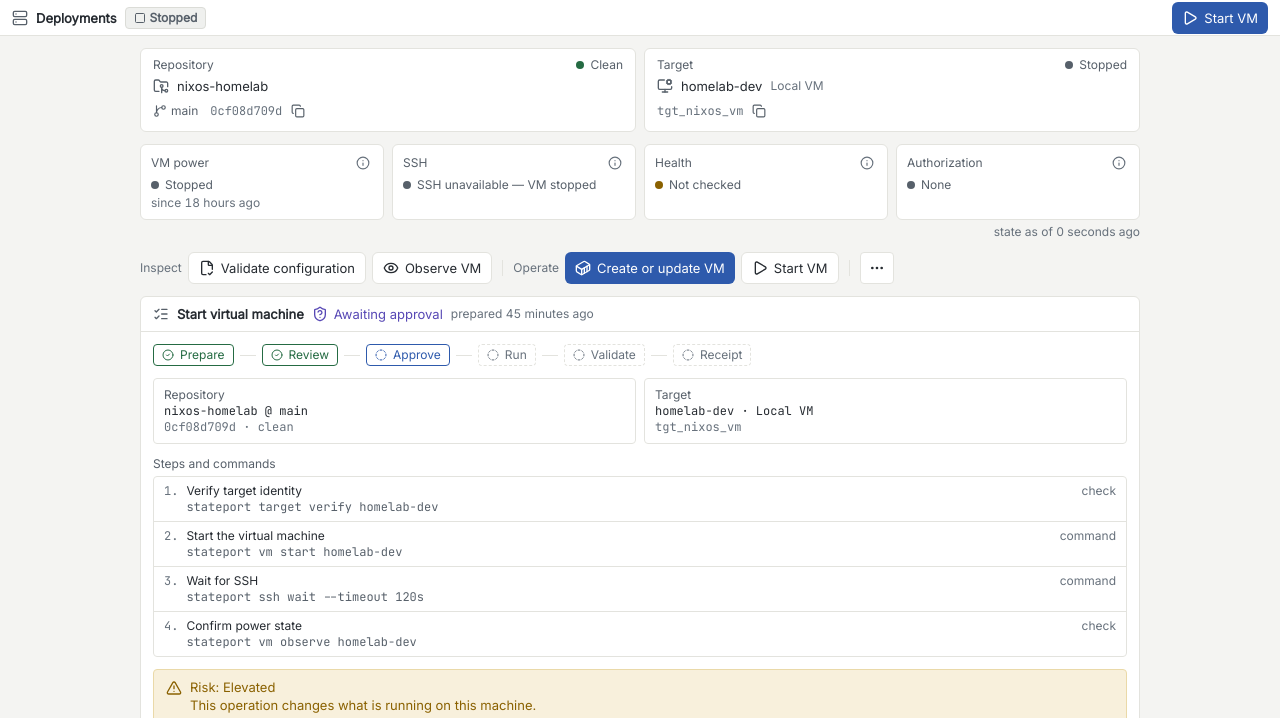
Test: DeploymentsTool — plan workflow › requires typed target confirmation before preparing destruction
Expected: the element with test id "actions-row" is shown, left=140, top=252, right=894, bottom=284
Step 1. Click the button with test id "operations-menu-trigger" → [876, 268], box left=860, top=252, right=894, bottom=284
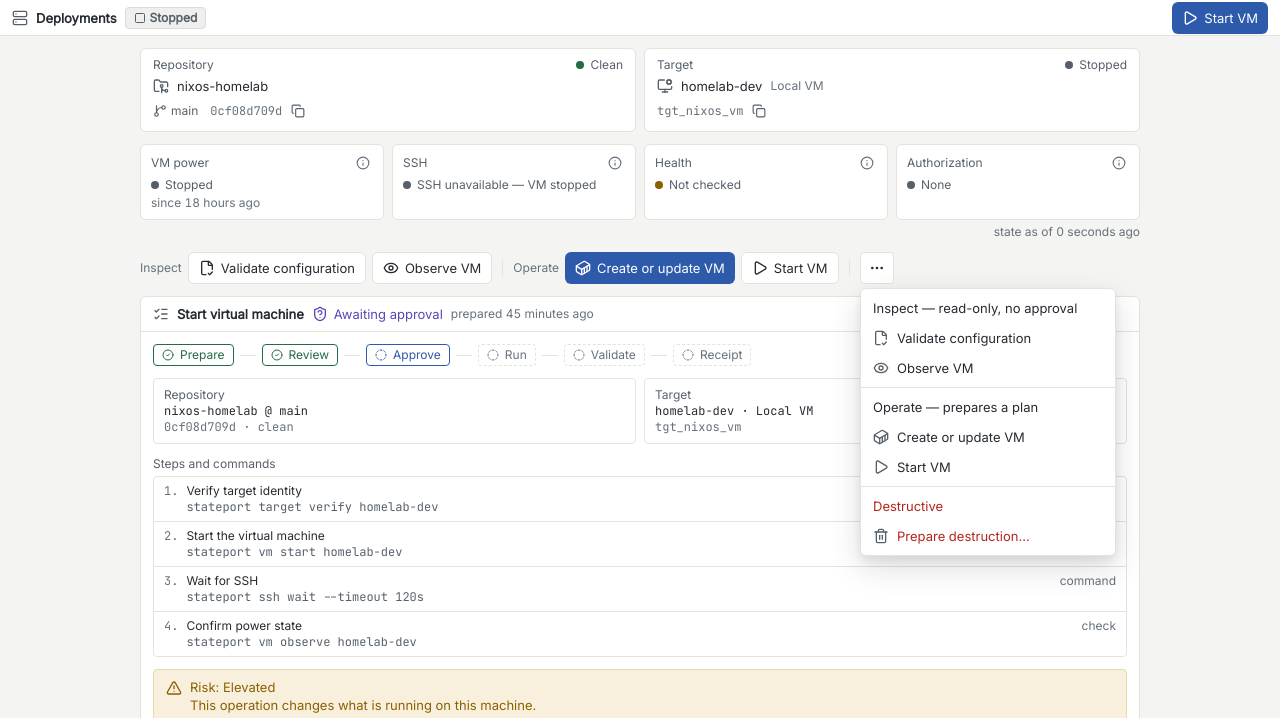
Step 2. Click the menu item with test id "prepare-destruction" → [951, 536], box left=873, top=528, right=1030, bottom=544
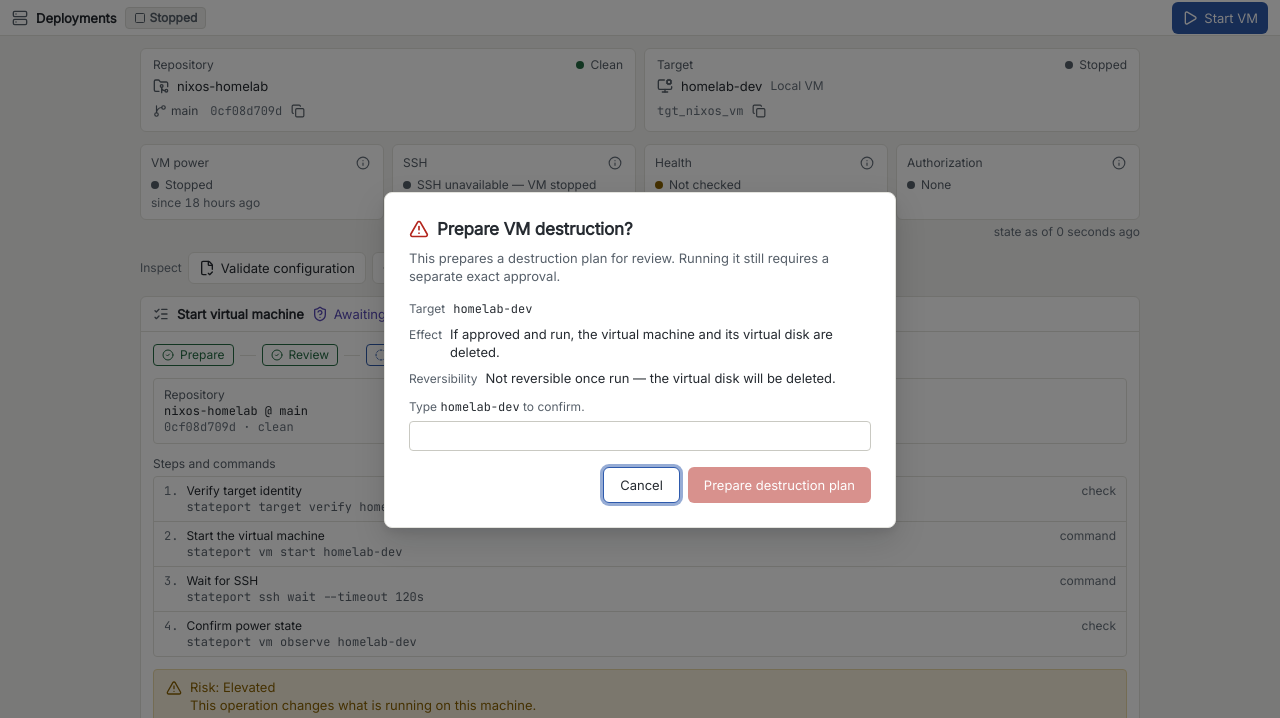
Now the button with test id "confirm-action" is disabled, box left=688, top=467, right=871, bottom=503
Step 3. Type "wrong-name" into the field with test id "confirm-typed-input" → [640, 436], box left=409, top=421, right=871, bottom=451
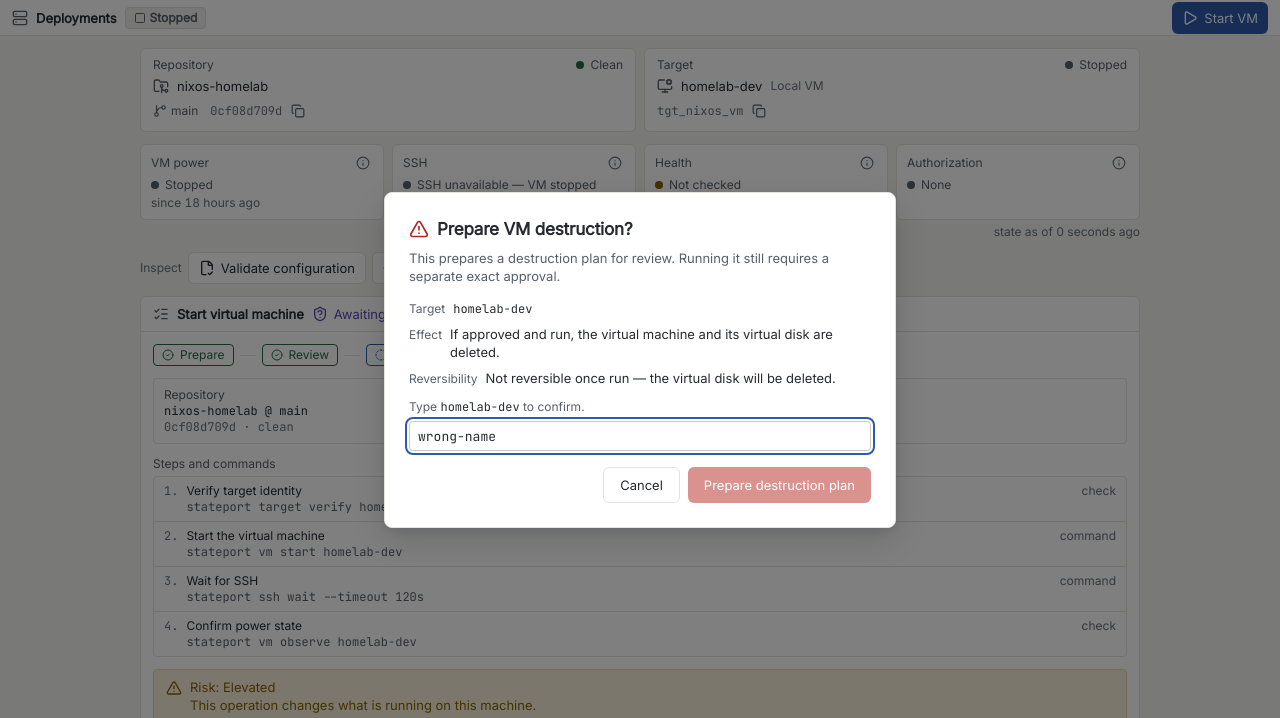
Now the button with test id "confirm-action" is disabled, box left=688, top=467, right=871, bottom=503
Step 4. Replace the text in the field with test id "confirm-typed-input" with "homelab-dev" → [640, 436], box left=409, top=421, right=871, bottom=451
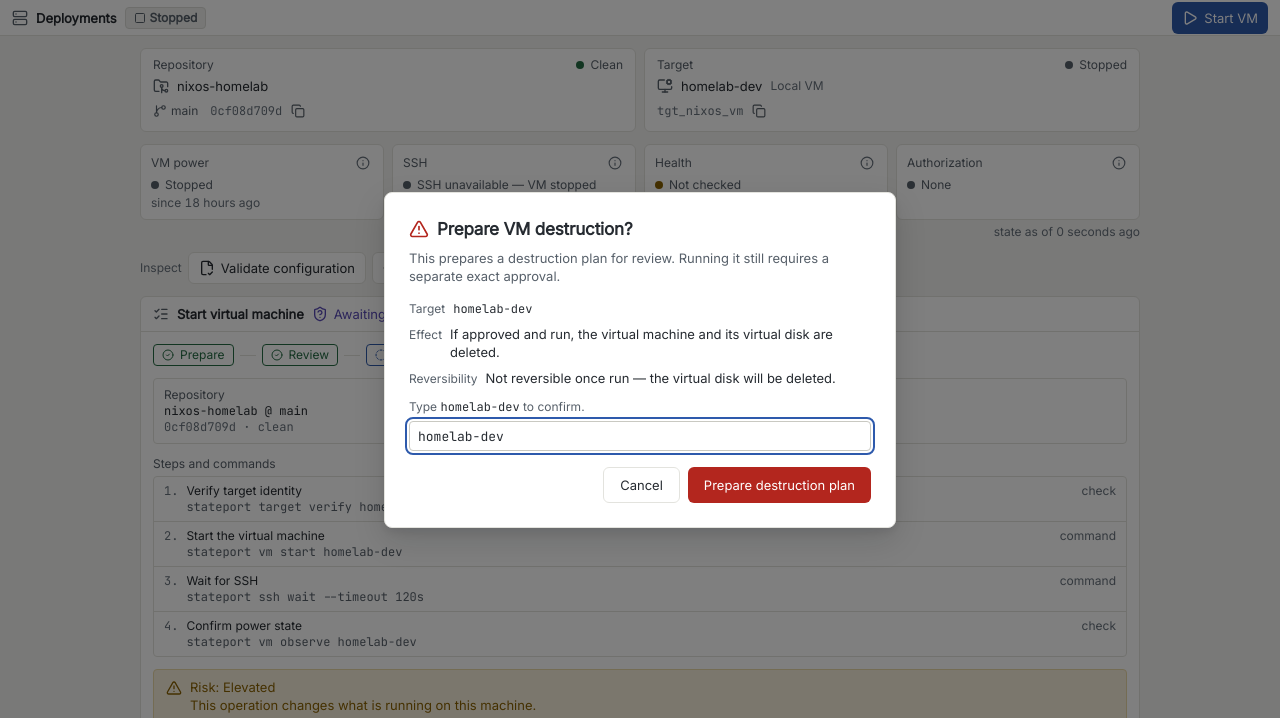
Now the button with test id "confirm-action" is enabled
Step 5. Click the button with test id "confirm-action" → [779, 485], box left=688, top=467, right=871, bottom=503
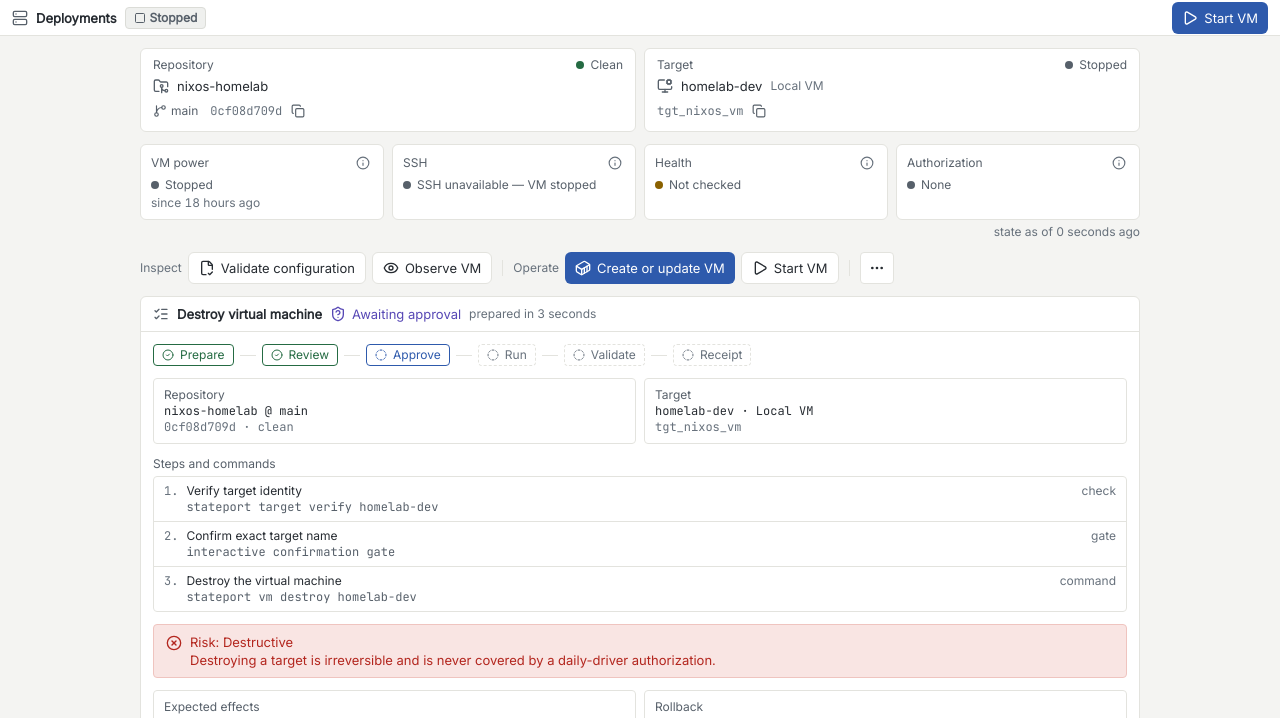
Expected: the text "Awaiting approval" is shown, left=352, top=305, right=461, bottom=323
Now the heading "Destroy virtual machine" is shown, box left=177, top=305, right=322, bottom=323
Now the text "never covered by a daily-driver authorization" is shown, box left=190, top=652, right=716, bottom=668
